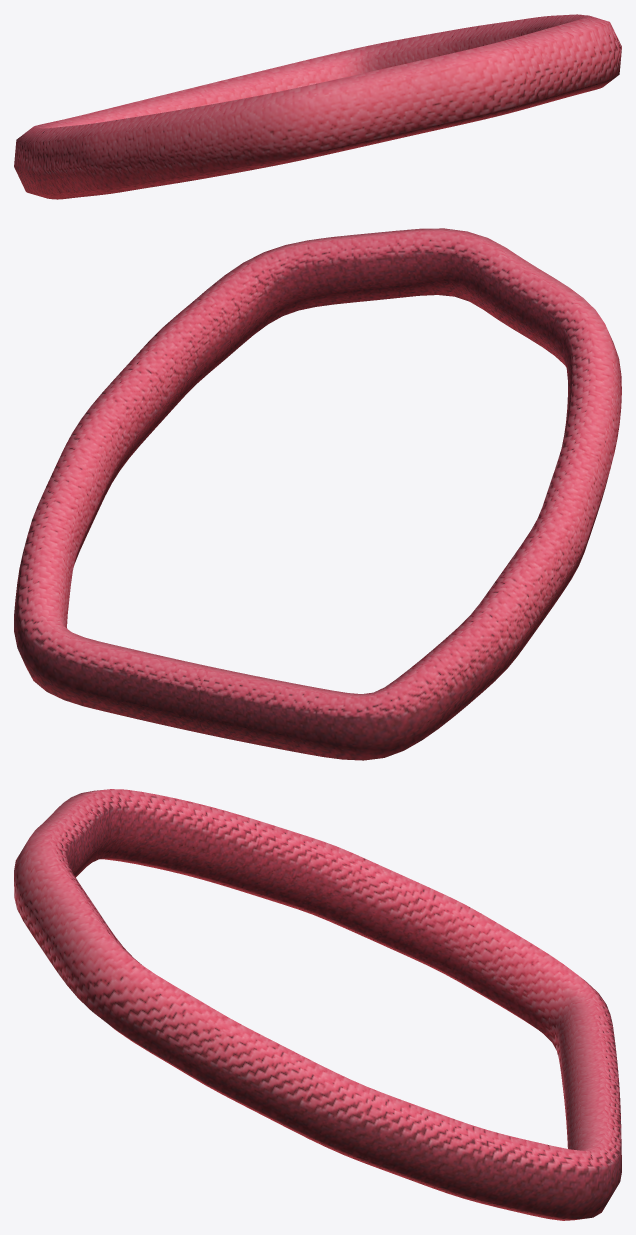
The model's file is SM_HeadBandBlue_00.fbx.
3 renders of one model, top to bottom at view 1: azimuth 30°, elevation 25°; view 2: azimuth 150°, elevation 25°; view 3: azimuth 270°, elevation 25°, orthographic. The views are drawn at different scales.
Parts seen in each view (by area): view 1: SM_HeadBandBlue_00; view 2: SM_HeadBandBlue_00; view 3: SM_HeadBandBlue_00.
Part boxes in pixels (x1=…): SM_HeadBandBlue_00: x1=14, y1=14, x2=621, y2=199; SM_HeadBandBlue_00: x1=14, y1=228, x2=621, y2=760; SM_HeadBandBlue_00: x1=14, y1=789, x2=621, y2=1220.
Bounding box in the file's own units: 32.24 × 18.63 × 33.33.
